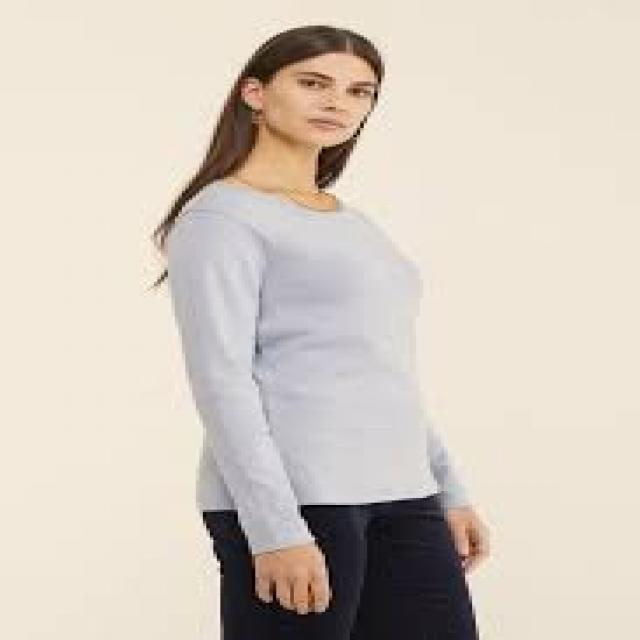plain: (147, 161, 475, 508)
